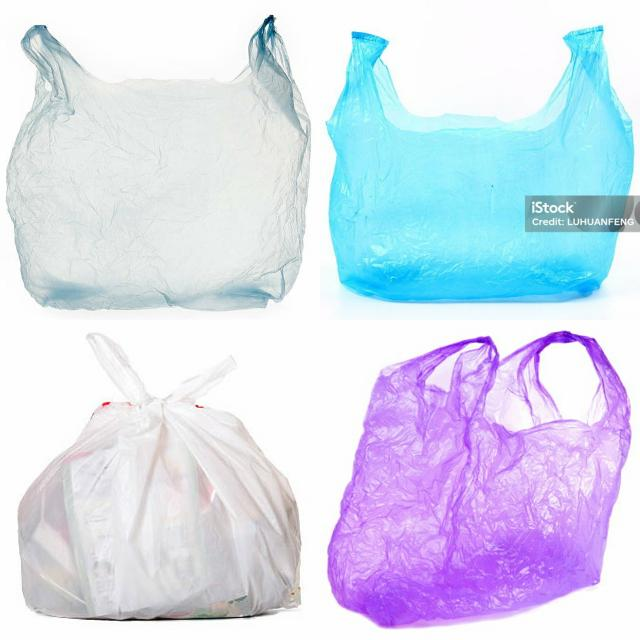Single-layer Plastic: (329, 331, 630, 626), (8, 16, 310, 310), (328, 26, 634, 301), (19, 334, 300, 618)
